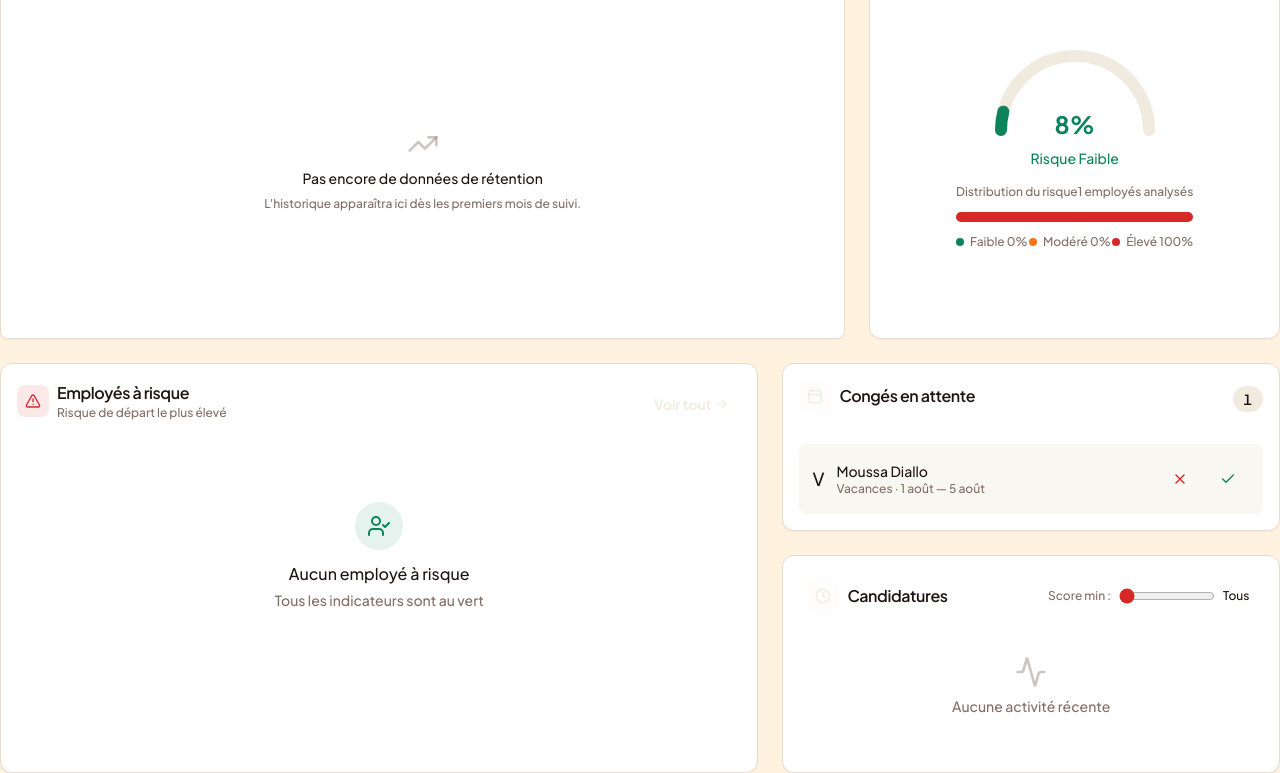
Scenario: HRDashboard — décisions de congé confirmées, jamais immédiates › ne refuse pas le congé si l'utilisateur annule la confirmation
(page scrolled)
Step 1. Click the button named "refuser le congé de moussa diallo" → (1180, 479), box left=1158, top=457, right=1202, bottom=501
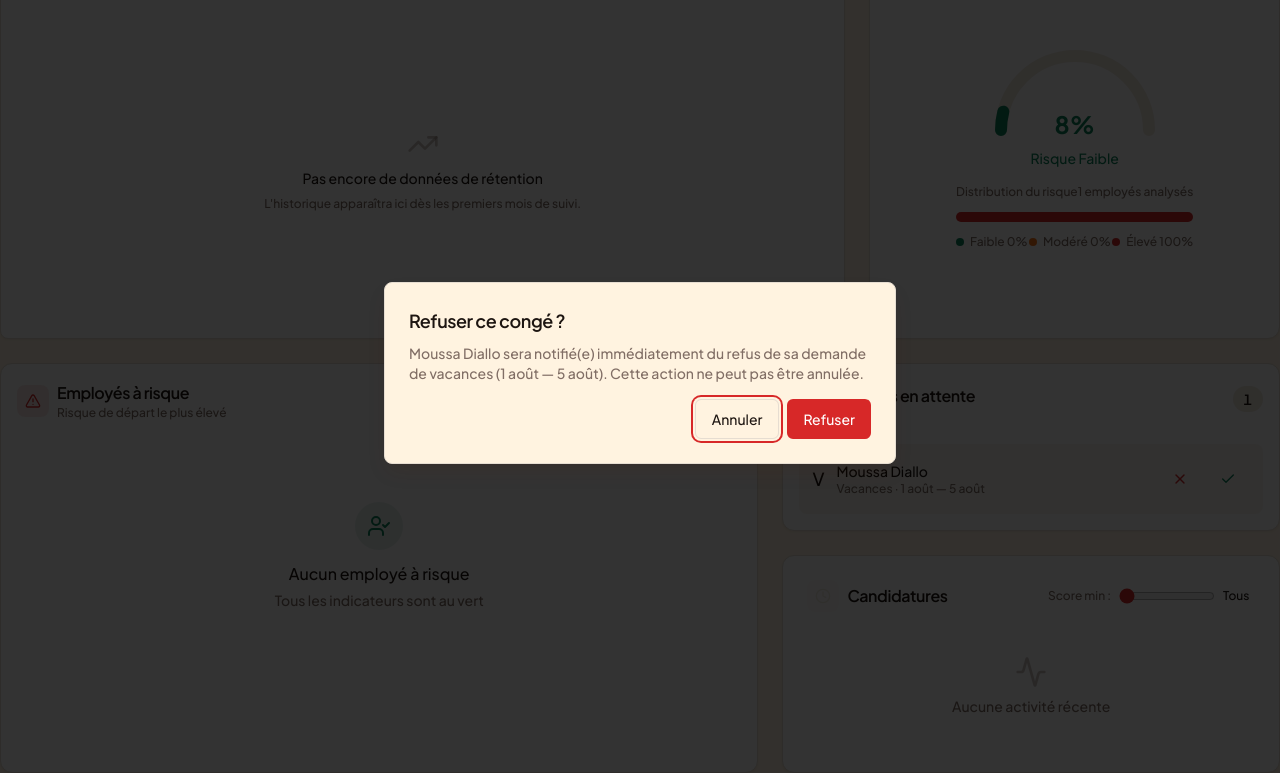
Result: the heading "Refuser ce congé ?" is shown at left=409, top=309, right=565, bottom=332
Step 2. Click the button "Annuler" → (737, 419), box left=695, top=399, right=779, bottom=439
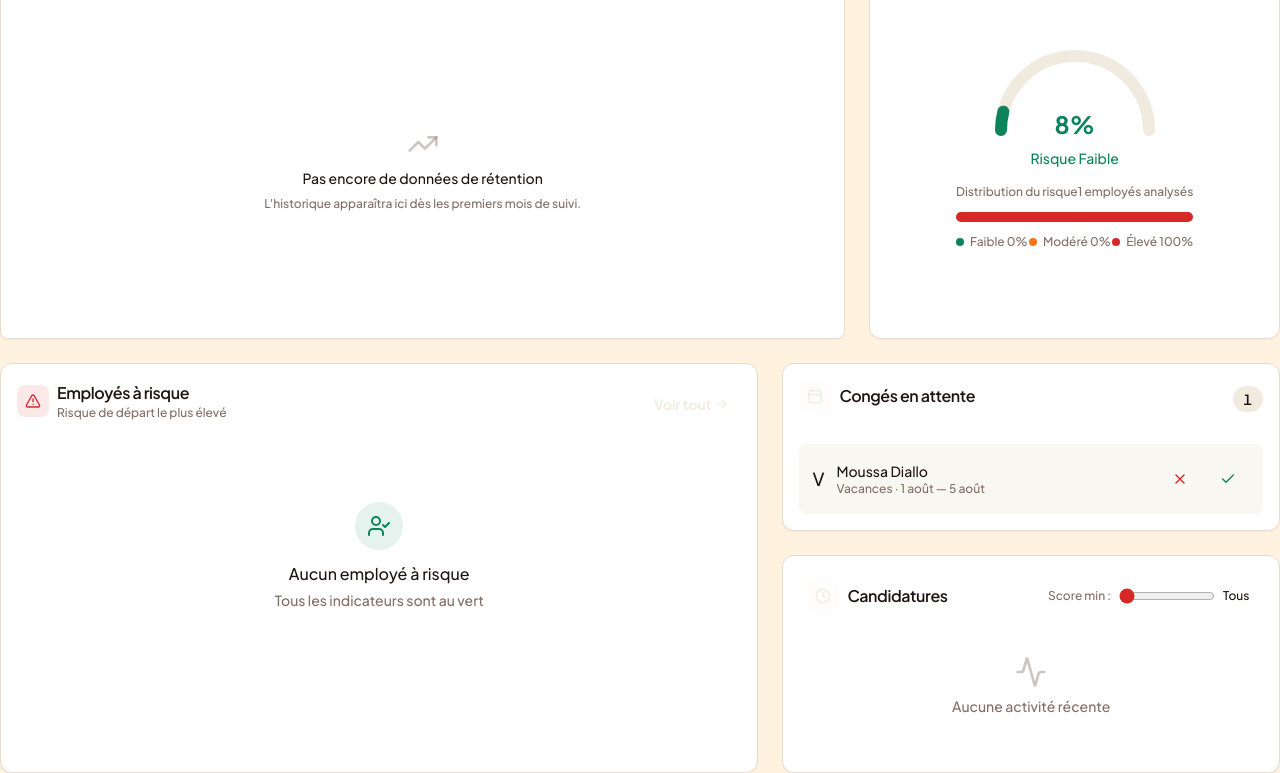
Result: the heading "Refuser ce congé ?" is gone
